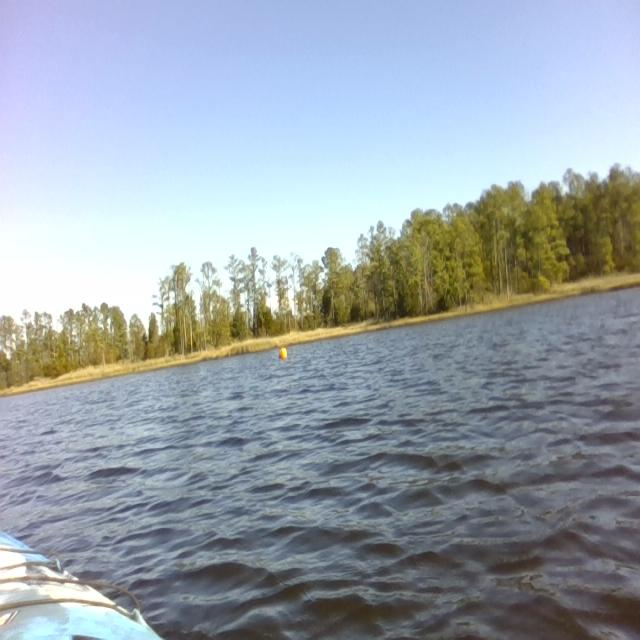Buoy: (271, 342, 296, 368)
